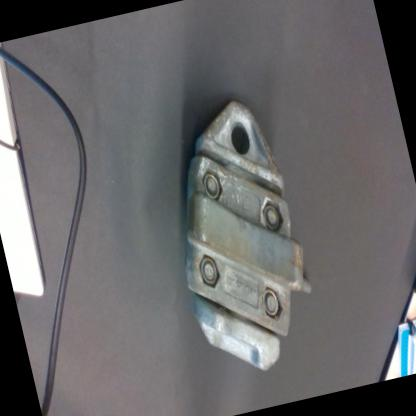Twistlock: (144, 86, 334, 391)
